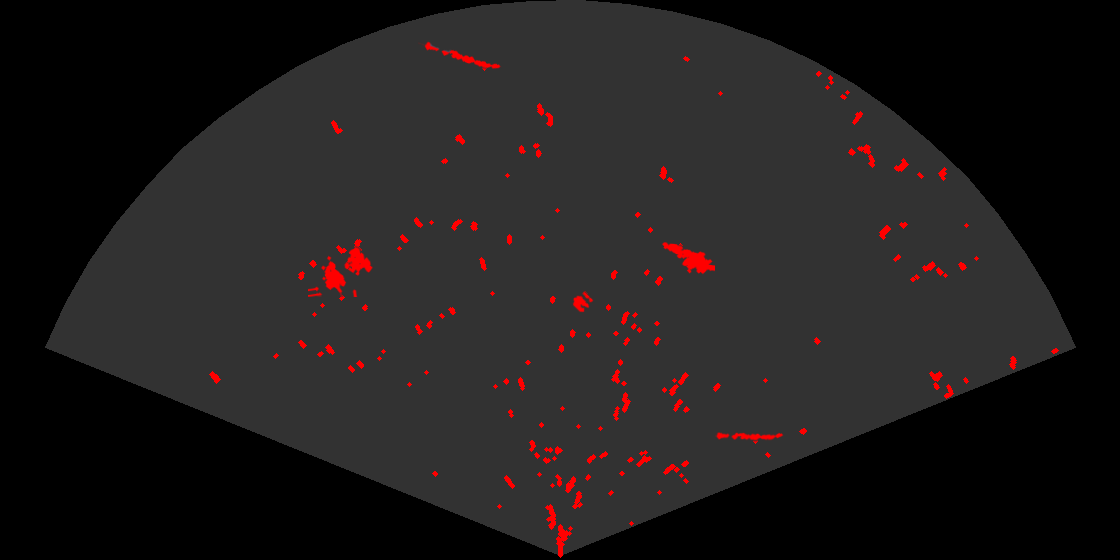ball: (571, 290, 595, 314)
cage: (308, 245, 375, 297)
chain: (418, 40, 502, 71), (715, 431, 784, 442)
frogman: (660, 241, 715, 276)
